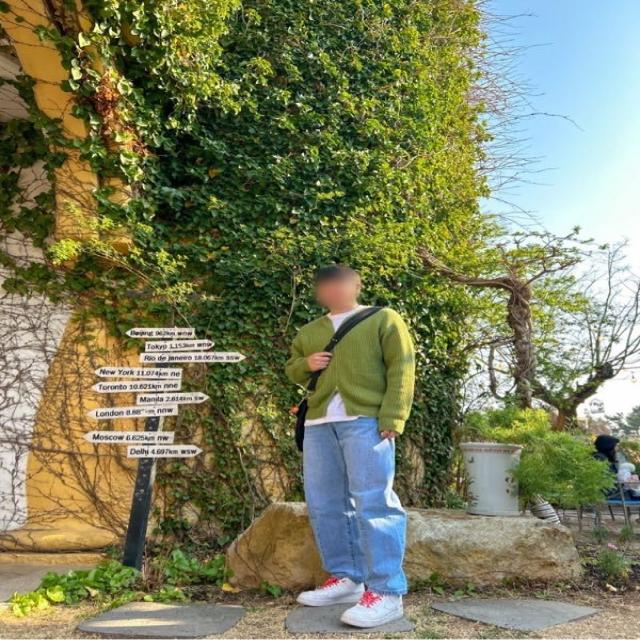cardigan: (284, 307, 413, 431)
denimpants: (307, 417, 408, 593)
